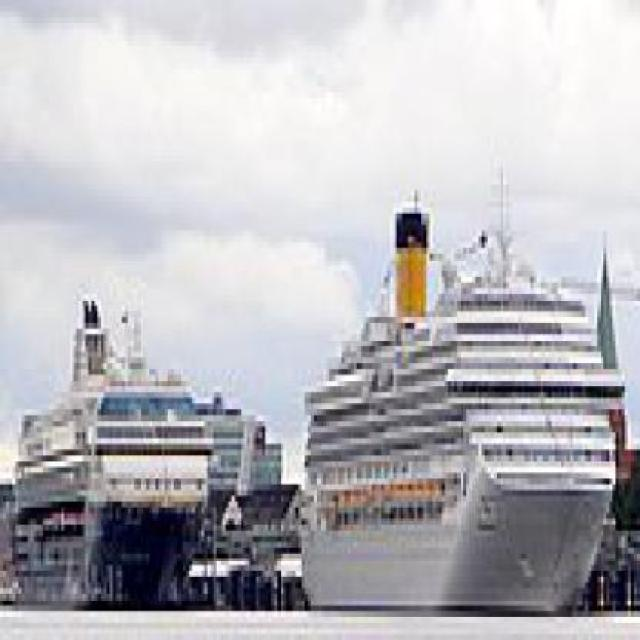cruise: (290, 185, 632, 629), (7, 284, 233, 601)
